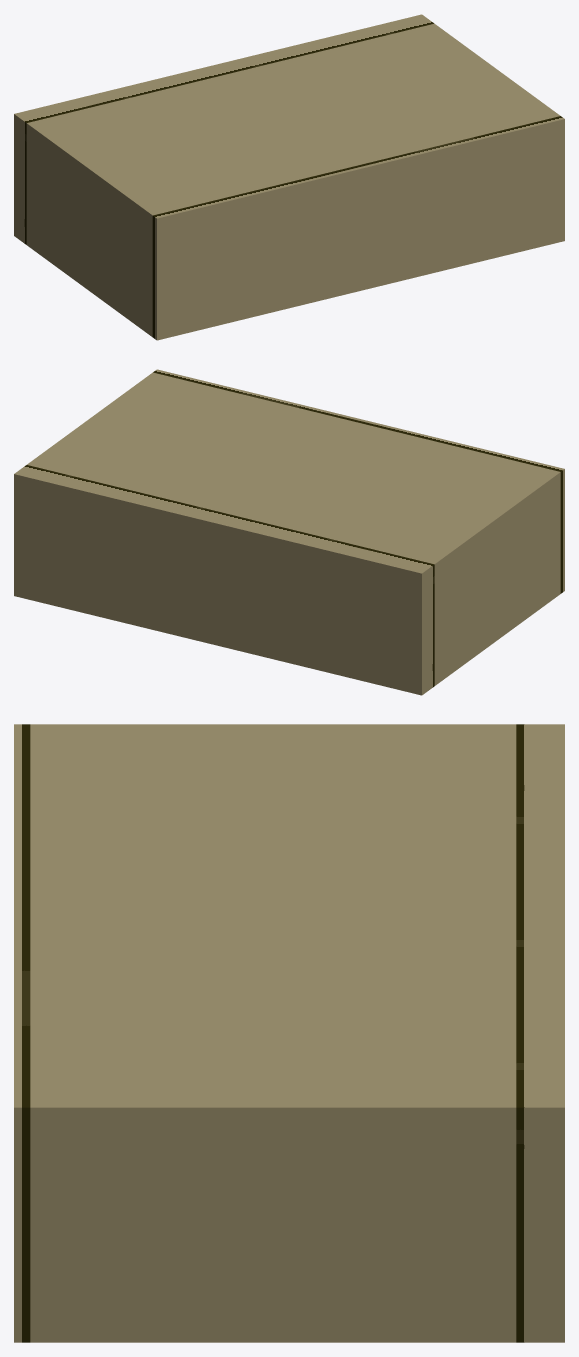
The model's file is prop_cabinet_02.glb.
3 views of the same model, one above another, from view 1: azimuth 30°, elevation 25°; view 2: azimuth 150°, elevation 25°; view 3: azimuth 270°, elevation 25° (orthographic). The views are drawn at different scales.
Visible parts, largest first — view 1: prop_cabinet_02; view 2: prop_cabinet_02; view 3: prop_cabinet_02.
Part boxes in pixels (<box>): prop_cabinet_02: <box>14,14,564,340</box>; prop_cabinet_02: <box>14,369,564,695</box>; prop_cabinet_02: <box>14,724,564,1342</box>.
Size of the model in its own units: 112 by 32 by 68.
5 materials, 5 textured.
